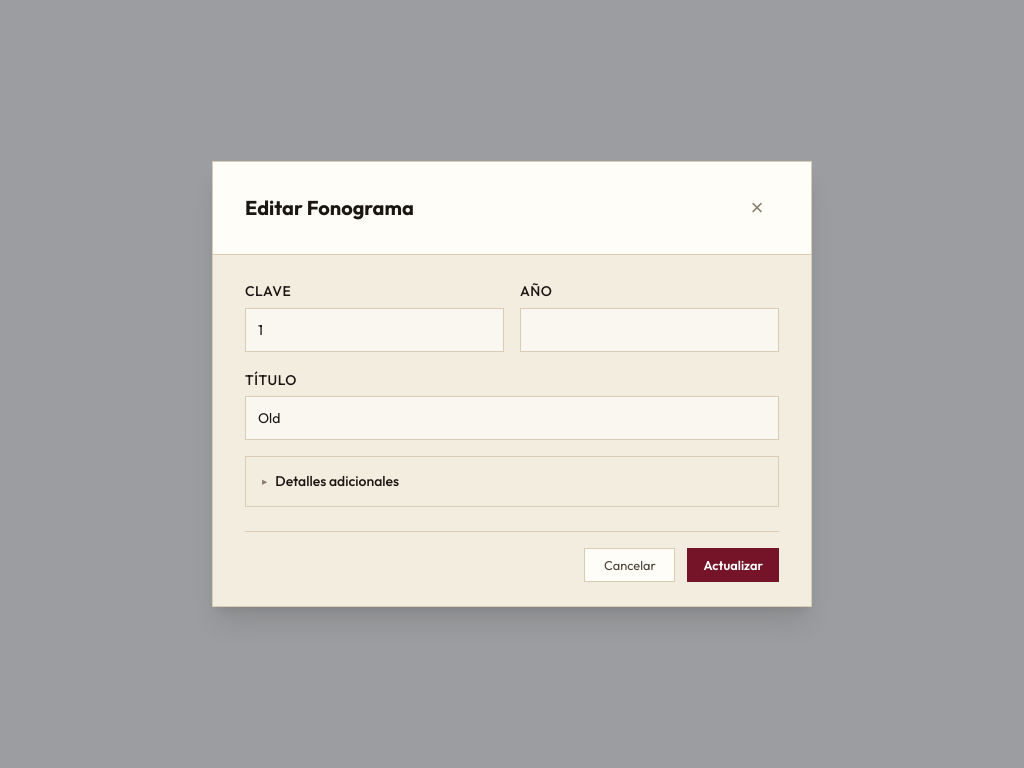
Test case: AdminFormModal.vue › cancelling a dirty form shows a confirm modal
This screenshot has width=1024, height=768.
Replace the text in the field with id "titulo" with "Changed" at (512, 418), box [245,396,779,440]
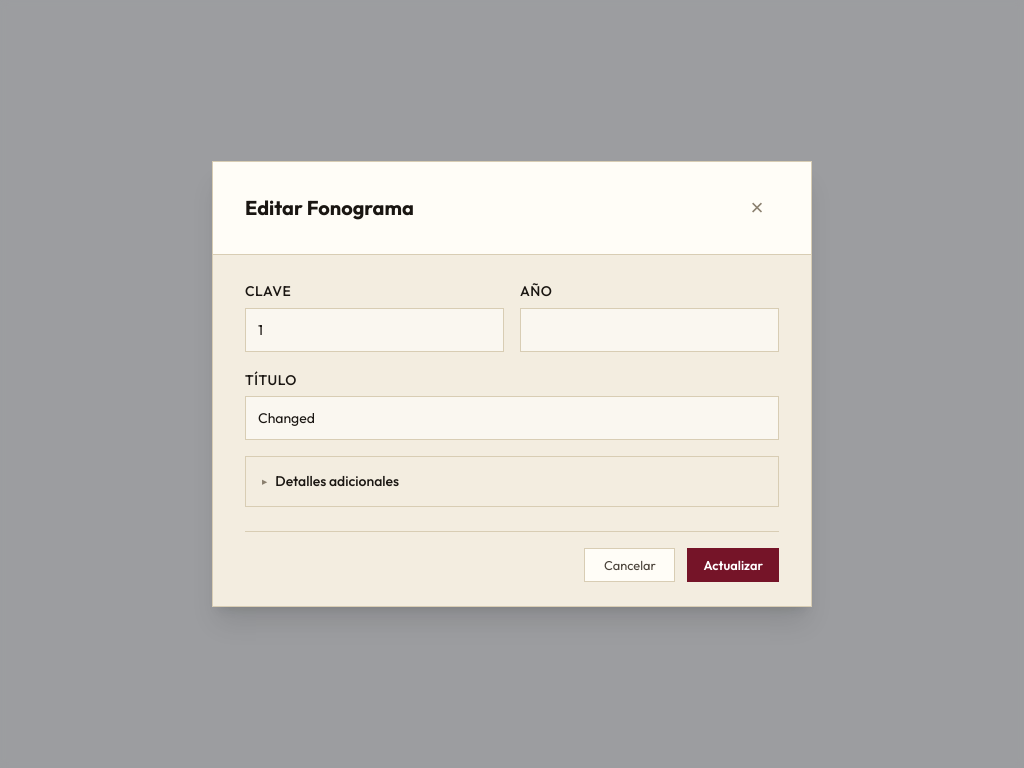
Click the button "Cancelar" at (630, 565), box [584,548,675,582]
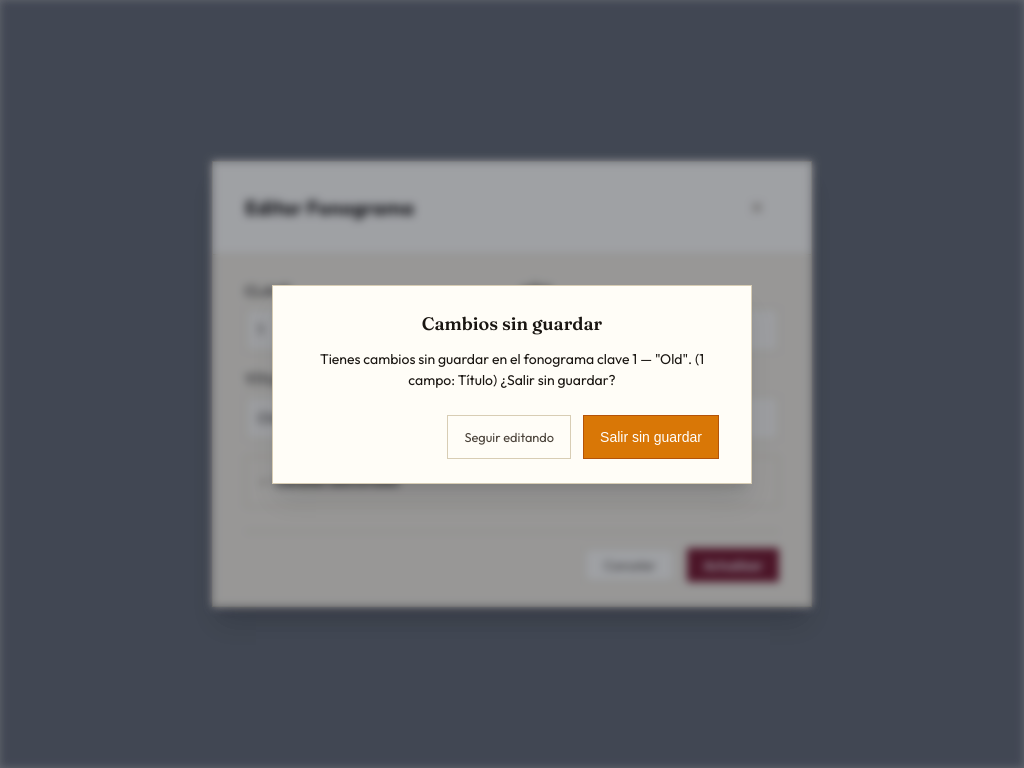
Expected: the dialog with class "admin-confirm" is shown, [272,284,752,484]
Expected: the heading with class "admin-confirm-title" reads "Cambios sin guardar", [422,312,602,334]
